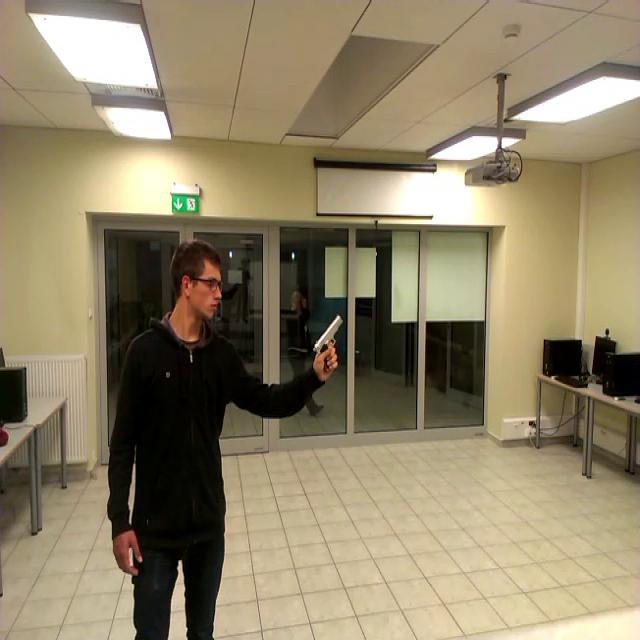Gun: (314, 314, 344, 372)
